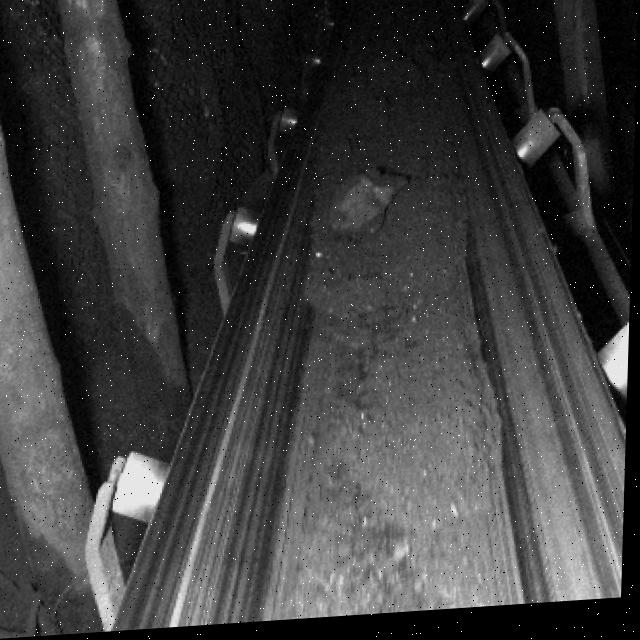large_sized_coal: (325, 170, 406, 252)
